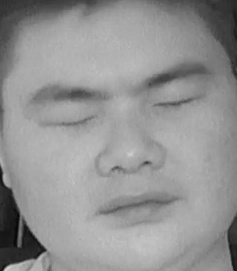blink: (45, 108, 95, 140), (156, 89, 204, 120)
mouth: (93, 182, 181, 231)
